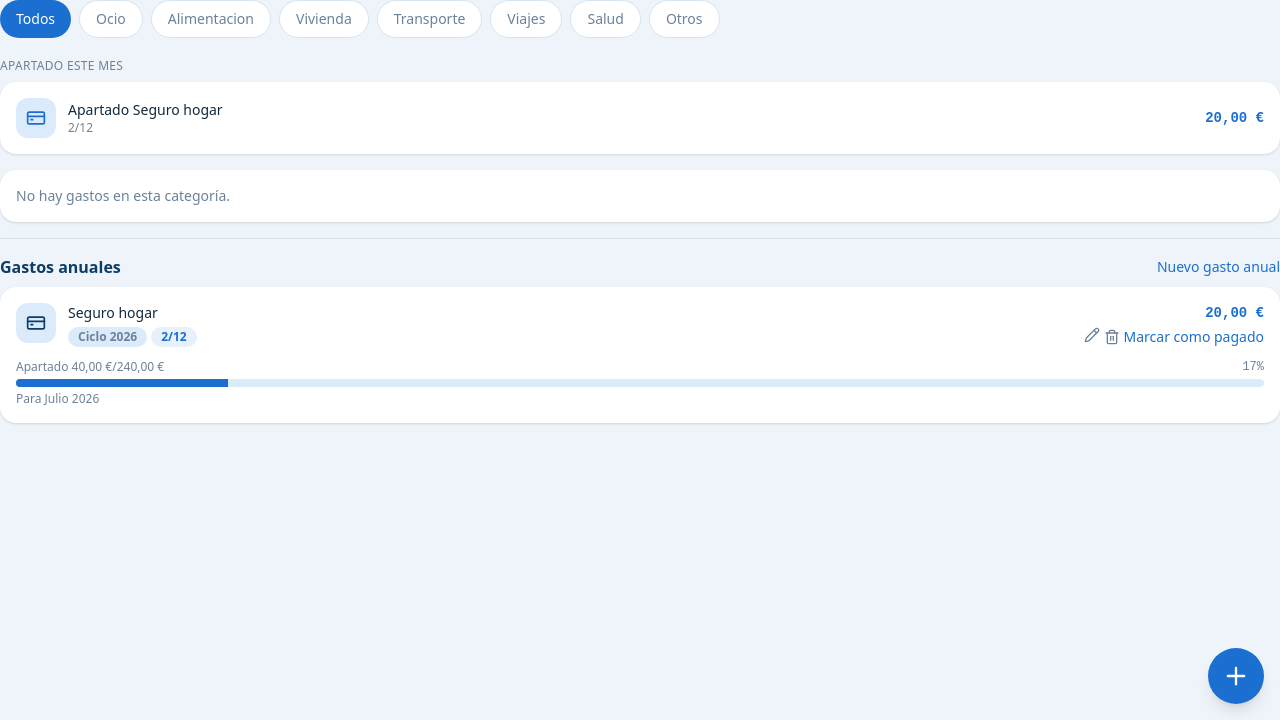
it: GastosList › gastos anuales (confirmación sin window.confirm ni alert) › muestra el error dentro del diálogo si el borrado anual falla
The width and height of the screenshot is (1280, 720).
Click the button named "Eliminar": {"x": 1112, "y": 337} [1104, 327, 1120, 347]
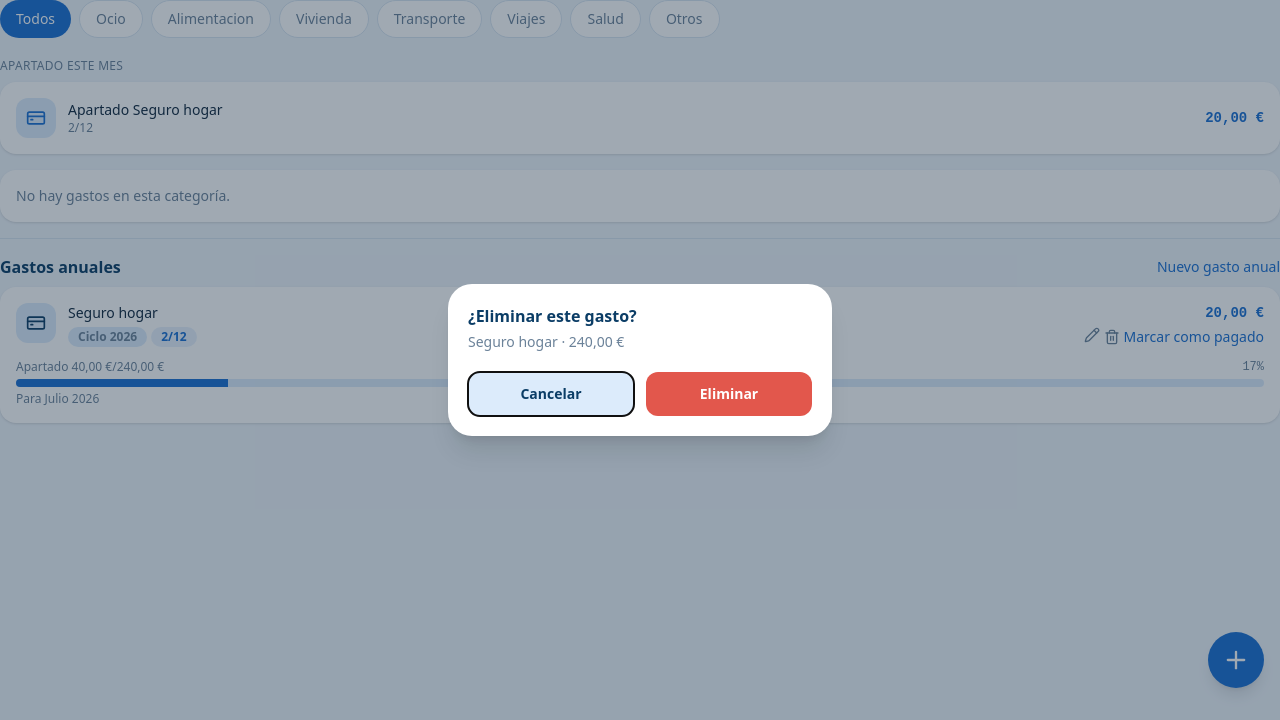
Click the button "Eliminar": {"x": 729, "y": 394} [646, 372, 812, 416]
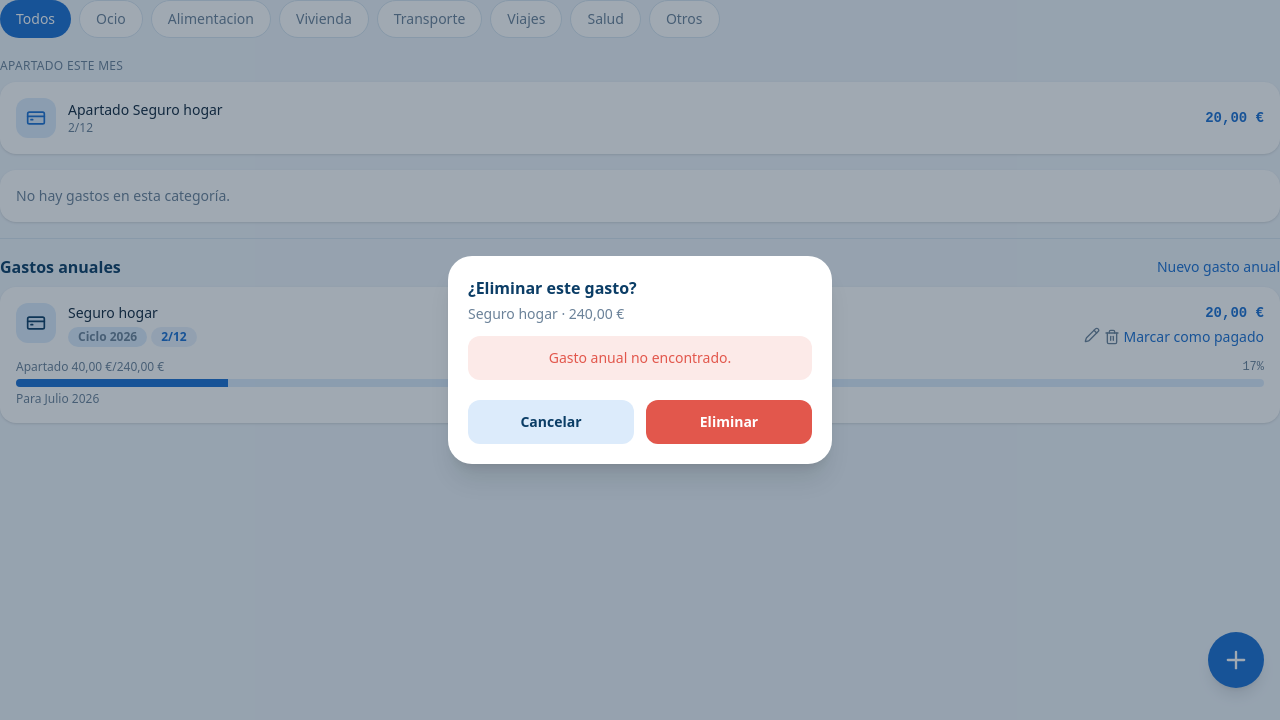
Now the dialog is shown, box [448, 256, 832, 464]
Now the text "Gasto anual no encontrado." is shown, box [468, 336, 812, 380]
